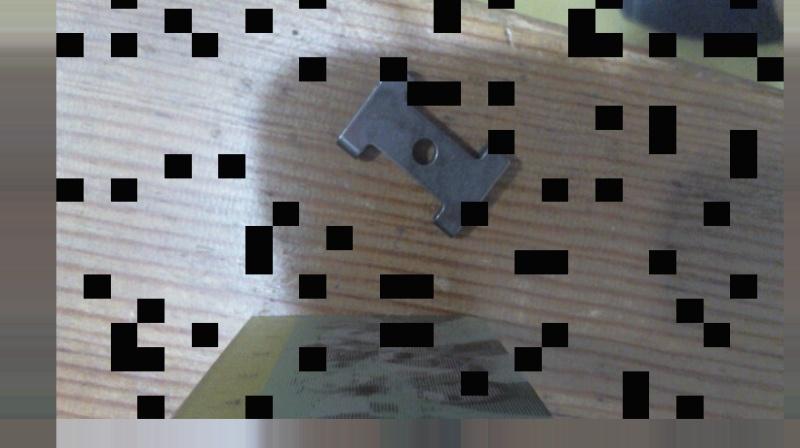O002: (332, 62, 511, 240)
